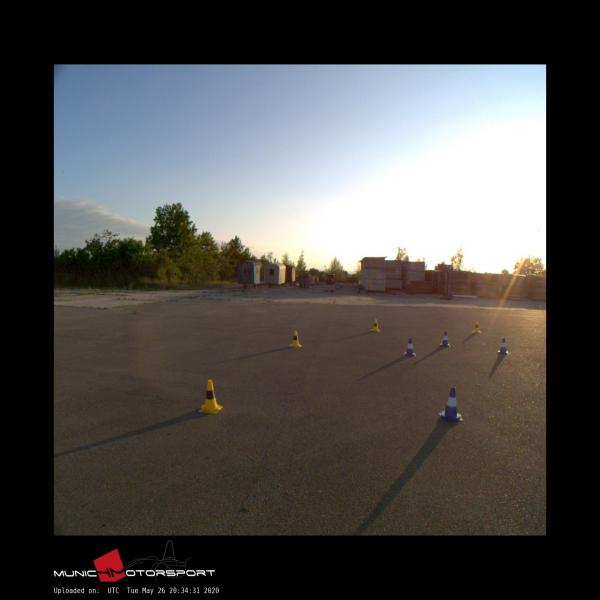blue_cone: (439, 386, 463, 420), (403, 338, 415, 356), (497, 337, 508, 354), (439, 330, 450, 347)
yellow_cone: (198, 379, 222, 413), (289, 329, 301, 347), (371, 318, 379, 331), (472, 320, 480, 333)
